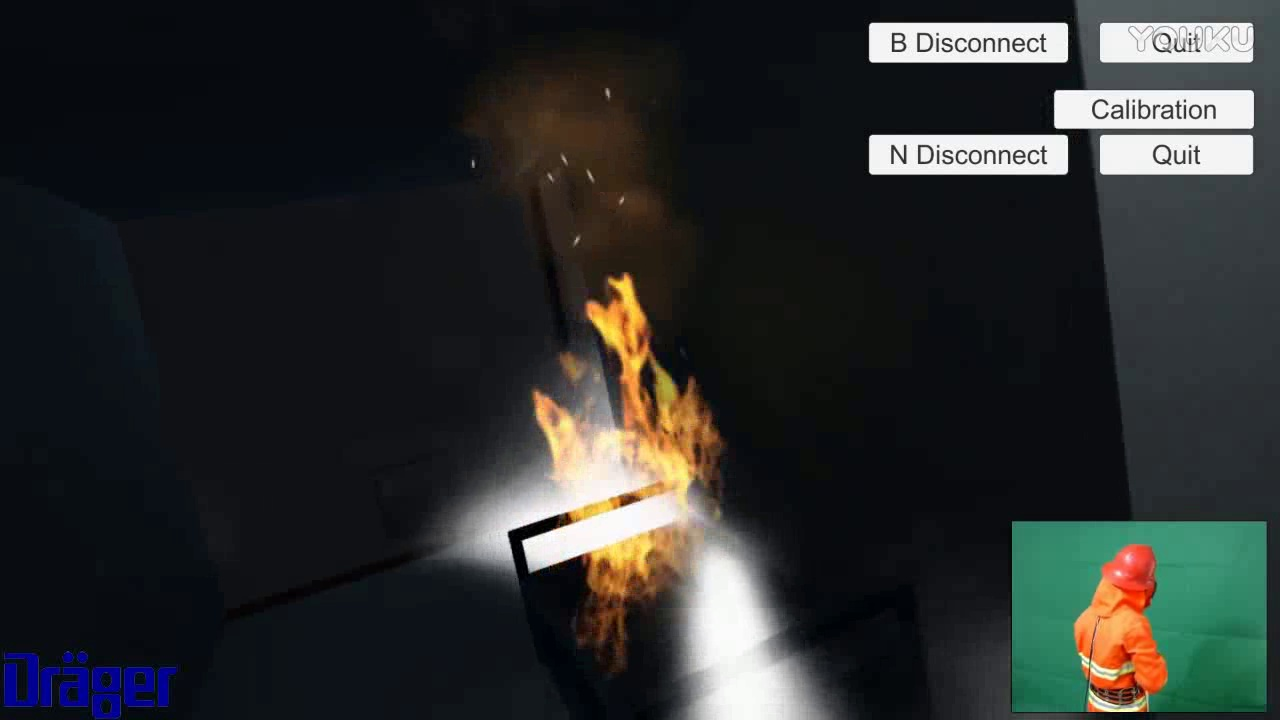fire: (516, 273, 743, 663)
